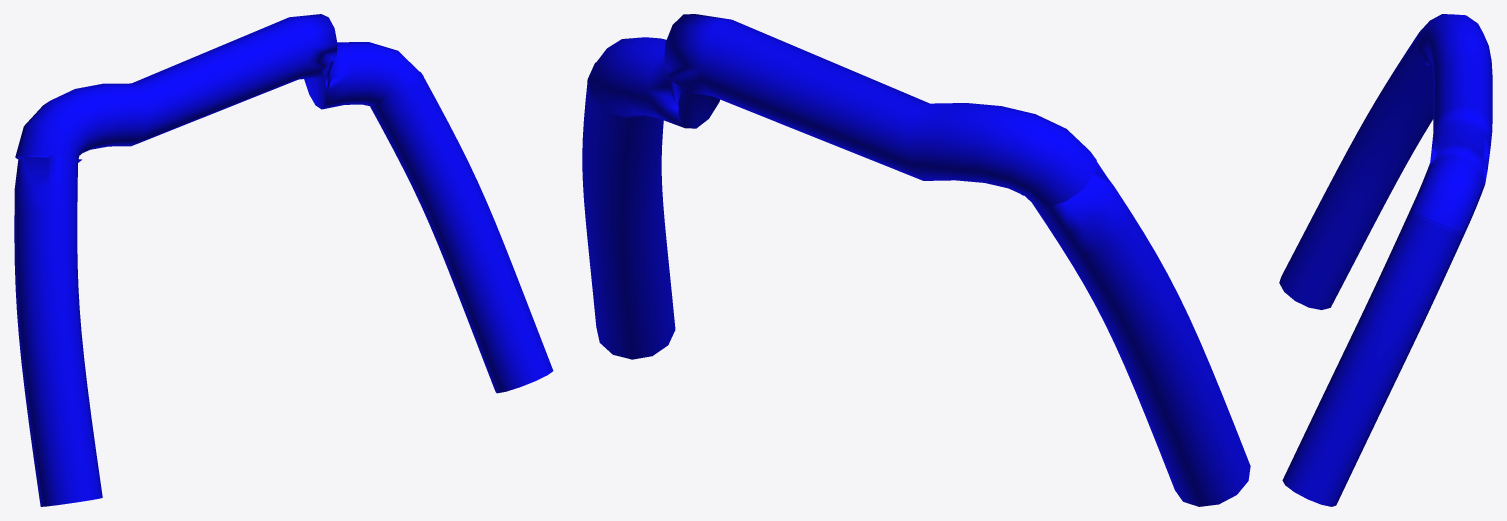
The model's file is BrazosReyHelado_obj.obj.
The picture shows the model from 3 angles, left to right: view 1: azimuth 30°, elevation 25°; view 2: azimuth 150°, elevation 25°; view 3: azimuth 270°, elevation 25°; orthographic projection. The views are drawn at different scales.
Parts seen in each view (by area): view 1: Brazos; view 2: Brazos; view 3: Brazos.
Boxes of the visible parts, x1=… form: Brazos: x1=14, y1=14, x2=553, y2=506; Brazos: x1=582, y1=14, x2=1250, y2=506; Brazos: x1=1279, y1=14, x2=1492, y2=506.
Size of the model in its own units: 11.85 by 8 by 4.58.
